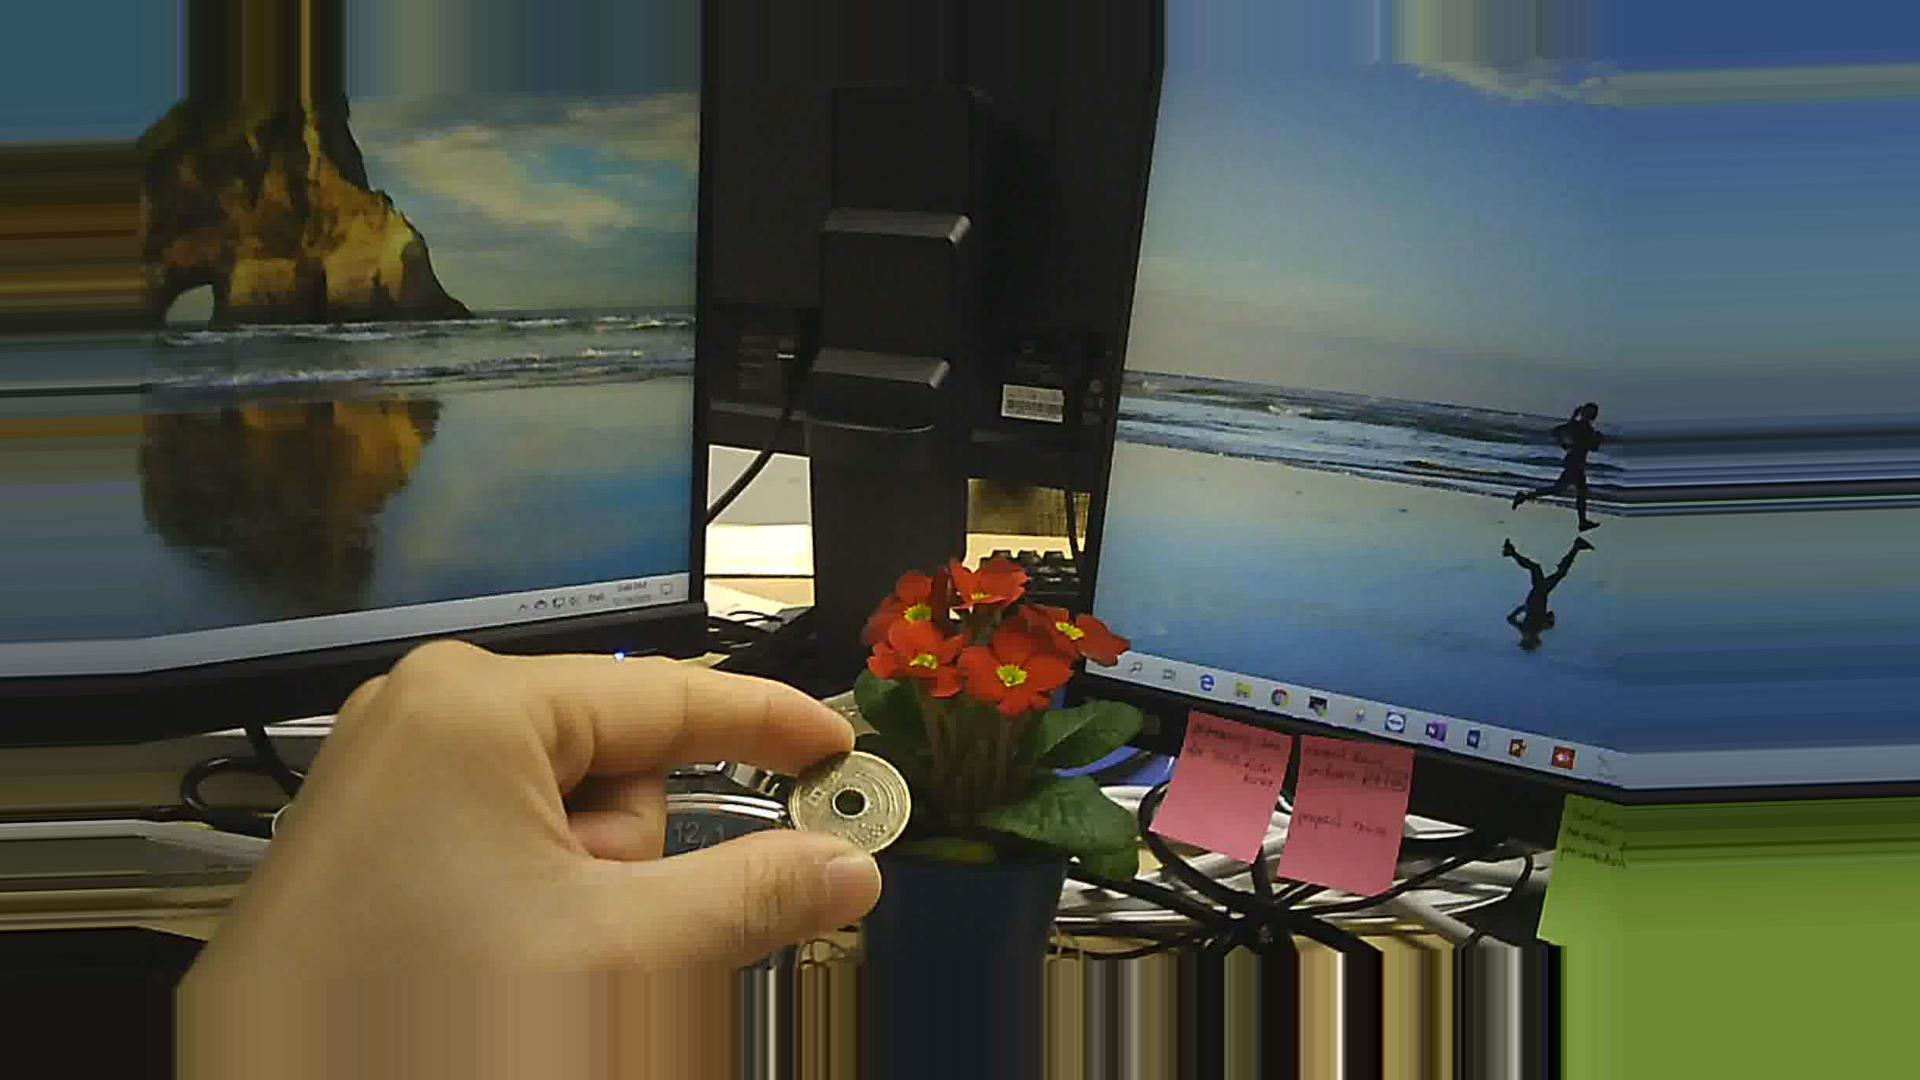5 Yen: (783, 736, 918, 860)
